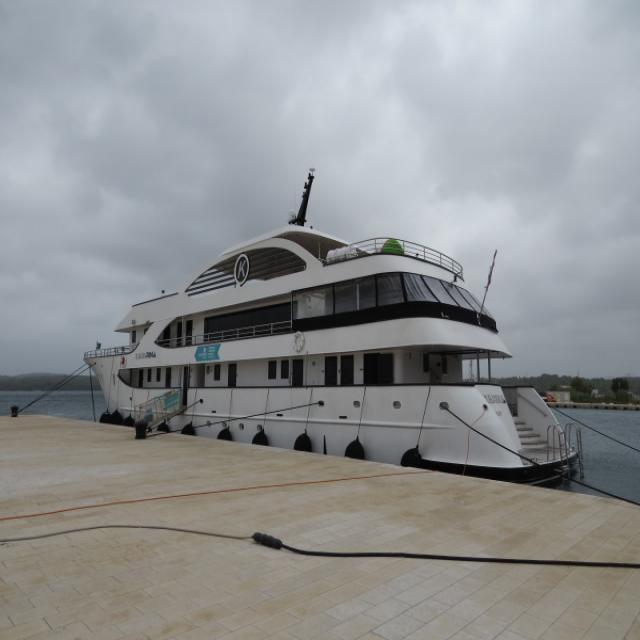cruises: (84, 176, 584, 492)
